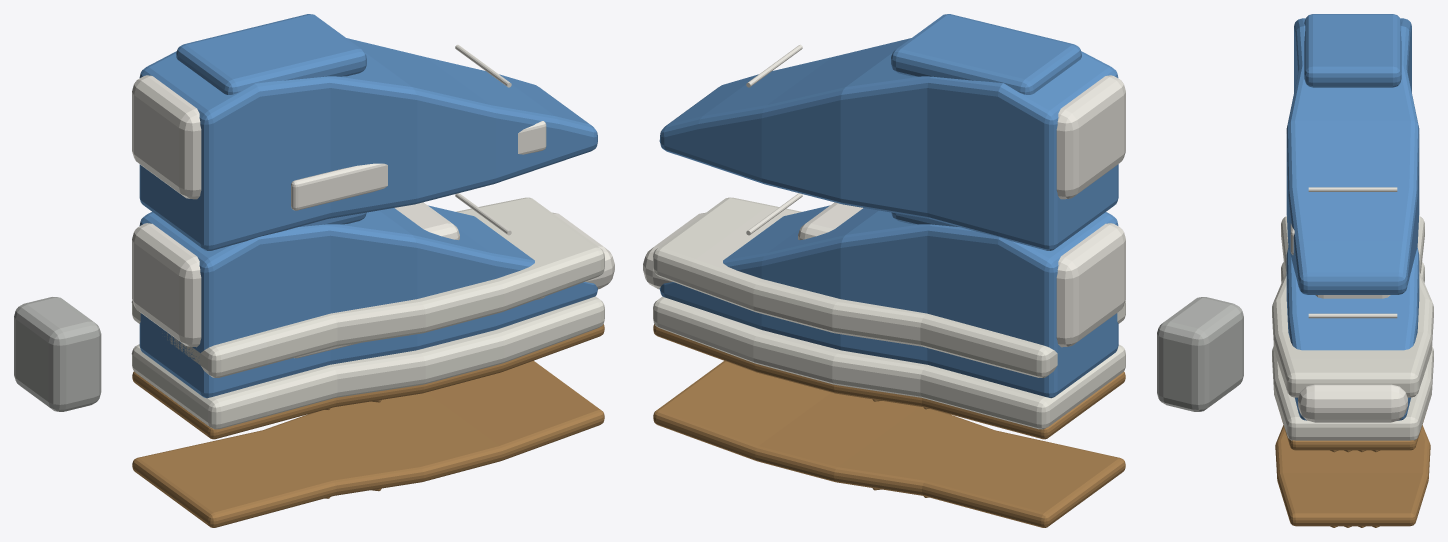
The model's file is nike-oregon-waffle-1973.glb.
3 renders of one model, left to right at view 1: azimuth 30°, elevation 25°; view 2: azimuth 150°, elevation 25°; view 3: azimuth 270°, elevation 25°, orthographic. The views are drawn at different scales.
Visible parts, largest first — view 1: nike-oregon-waffle-1973_UPPER_EXPLODED, nike-oregon-waffle-1973_UPPER, nike-oregon-waffle-1973_OUTSOLE_EXPLODED, nike-oregon-waffle-1973_MIDSOLE_EXPLODED, nike-oregon-waffle-1973_MIDSOLE, nike-oregon-waffle-1973_TONGUE_EXPLODED, nike-oregon-waffle-1973_HEEL_FOAM_EXPLODED, nike-oregon-waffle-1973_HEEL_COUNTER, nike-oregon-waffle-1973_HEEL_COUNTER_EXPLODED, nike-oregon-waffle-1973_OUTSOLE, nike-oregon-waffle-1973_SIDE_REINFORCEMENT_EXPLODED, nike-oregon-waffle-1973_EYESTAY (+1 smaller); view 2: nike-oregon-waffle-1973_UPPER_EXPLODED, nike-oregon-waffle-1973_UPPER, nike-oregon-waffle-1973_OUTSOLE_EXPLODED, nike-oregon-waffle-1973_MIDSOLE_EXPLODED, nike-oregon-waffle-1973_MIDSOLE, nike-oregon-waffle-1973_TONGUE_EXPLODED, nike-oregon-waffle-1973_HEEL_FOAM_EXPLODED, nike-oregon-waffle-1973_HEEL_COUNTER, nike-oregon-waffle-1973_HEEL_COUNTER_EXPLODED, nike-oregon-waffle-1973_OUTSOLE, nike-oregon-waffle-1973_EYESTAY, nike-oregon-waffle-1973_TOE_OVERLAY; view 3: nike-oregon-waffle-1973_UPPER_EXPLODED, nike-oregon-waffle-1973_OUTSOLE_EXPLODED, nike-oregon-waffle-1973_MIDSOLE_EXPLODED, nike-oregon-waffle-1973_UPPER, nike-oregon-waffle-1973_TONGUE_EXPLODED, nike-oregon-waffle-1973_MIDSOLE, nike-oregon-waffle-1973_TOE_OVERLAY, nike-oregon-waffle-1973_OUTSOLE, nike-oregon-waffle-1973_LACE_5, nike-oregon-waffle-1973_LACE_5_EXPLODED, nike-oregon-waffle-1973_EYESTAY.
Part boxes in pixels (left/top/right/bottom): nike-oregon-waffle-1973_UPPER_EXPLODED: left=139, top=38, right=597, bottom=250; nike-oregon-waffle-1973_UPPER: left=139, top=205, right=597, bottom=398; nike-oregon-waffle-1973_OUTSOLE_EXPLODED: left=132, top=360, right=604, bottom=527; nike-oregon-waffle-1973_MIDSOLE_EXPLODED: left=131, top=197, right=604, bottom=377; nike-oregon-waffle-1973_MIDSOLE: left=131, top=296, right=604, bottom=429; nike-oregon-waffle-1973_TONGUE_EXPLODED: left=176, top=14, right=366, bottom=94; nike-oregon-waffle-1973_HEEL_FOAM_EXPLODED: left=14, top=297, right=101, bottom=411; nike-oregon-waffle-1973_HEEL_COUNTER: left=132, top=223, right=201, bottom=347; nike-oregon-waffle-1973_HEEL_COUNTER_EXPLODED: left=132, top=75, right=201, bottom=199; nike-oregon-waffle-1973_OUTSOLE: left=132, top=324, right=604, bottom=439; nike-oregon-waffle-1973_SIDE_REINFORCEMENT_EXPLODED: left=291, top=121, right=546, bottom=210; nike-oregon-waffle-1973_EYESTAY: left=395, top=202, right=459, bottom=239; nike-oregon-waffle-1973_UPPER_EXPLODED: left=659, top=38, right=1118, bottom=250; nike-oregon-waffle-1973_UPPER: left=659, top=205, right=1118, bottom=398; nike-oregon-waffle-1973_OUTSOLE_EXPLODED: left=653, top=360, right=1125, bottom=527; nike-oregon-waffle-1973_MIDSOLE_EXPLODED: left=653, top=197, right=1125, bottom=377; nike-oregon-waffle-1973_MIDSOLE: left=653, top=296, right=1125, bottom=429; nike-oregon-waffle-1973_TONGUE_EXPLODED: left=891, top=14, right=1081, bottom=94; nike-oregon-waffle-1973_HEEL_FOAM_EXPLODED: left=1157, top=297, right=1243, bottom=411; nike-oregon-waffle-1973_HEEL_COUNTER: left=1056, top=223, right=1125, bottom=347; nike-oregon-waffle-1973_HEEL_COUNTER_EXPLODED: left=1056, top=75, right=1125, bottom=199; nike-oregon-waffle-1973_OUTSOLE: left=653, top=324, right=1125, bottom=439; nike-oregon-waffle-1973_EYESTAY: left=798, top=202, right=862, bottom=239; nike-oregon-waffle-1973_TOE_OVERLAY: left=643, top=212, right=705, bottom=289; nike-oregon-waffle-1973_UPPER_EXPLODED: left=1286, top=18, right=1419, bottom=294; nike-oregon-waffle-1973_OUTSOLE_EXPLODED: left=1275, top=425, right=1430, bottom=526; nike-oregon-waffle-1973_MIDSOLE_EXPLODED: left=1272, top=216, right=1433, bottom=397; nike-oregon-waffle-1973_UPPER: left=1286, top=247, right=1419, bottom=420; nike-oregon-waffle-1973_TONGUE_EXPLODED: left=1304, top=14, right=1401, bottom=87; nike-oregon-waffle-1973_MIDSOLE: left=1272, top=262, right=1433, bottom=440; nike-oregon-waffle-1973_TOE_OVERLAY: left=1298, top=384, right=1407, bottom=422; nike-oregon-waffle-1973_OUTSOLE: left=1281, top=417, right=1424, bottom=450; nike-oregon-waffle-1973_LACE_5: left=1308, top=313, right=1397, bottom=318; nike-oregon-waffle-1973_LACE_5_EXPLODED: left=1308, top=187, right=1397, bottom=191; nike-oregon-waffle-1973_EYESTAY: left=1315, top=295, right=1390, bottom=298.
Bounding box in the file's own units: 0.3949 × 0.296 × 0.116.
